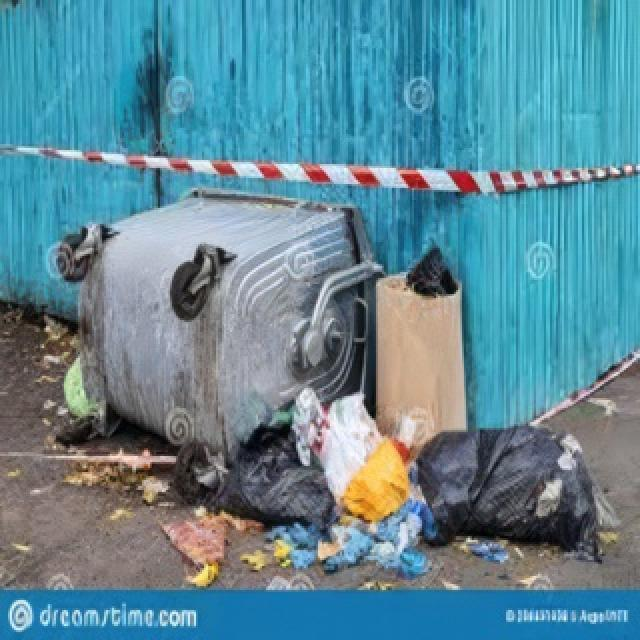high trash: (221, 271, 600, 574)
